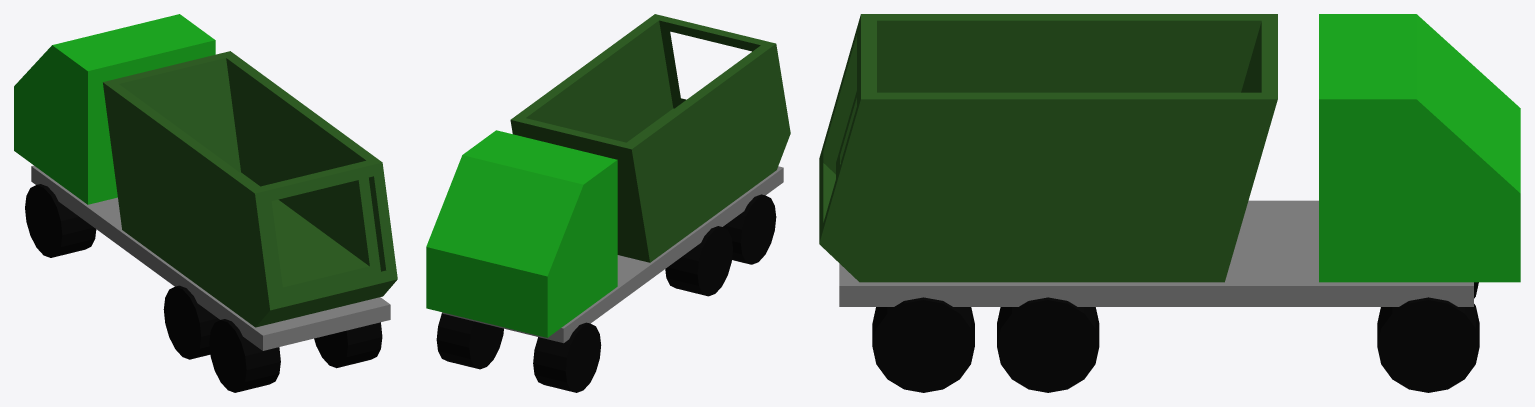
The model's file is garbage truck.fbx.
The picture shows the model from 3 angles, left to right: view 1: azimuth 30°, elevation 25°; view 2: azimuth 150°, elevation 25°; view 3: azimuth 270°, elevation 25°; orthographic projection. The views are drawn at different scales.
Visible parts, largest first — view 1: Cube; view 2: Cube; view 3: Cube.
Boxes of the visible parts, bbox=[...] form: Cube: bbox=[14, 14, 397, 392]; Cube: bbox=[426, 14, 790, 392]; Cube: bbox=[819, 14, 1520, 392].
Bounding box in the file's own units: 213 × 318 × 695.
